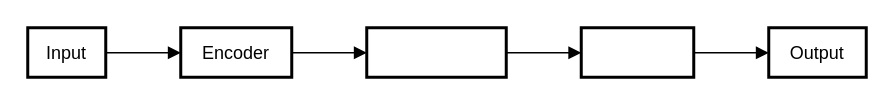
This 893x104 diagram has some shape labels left out. Each missing label, with the box of its shape:
Bottleneck: (364, 26, 507, 78)
Decoder: (579, 26, 694, 78)
